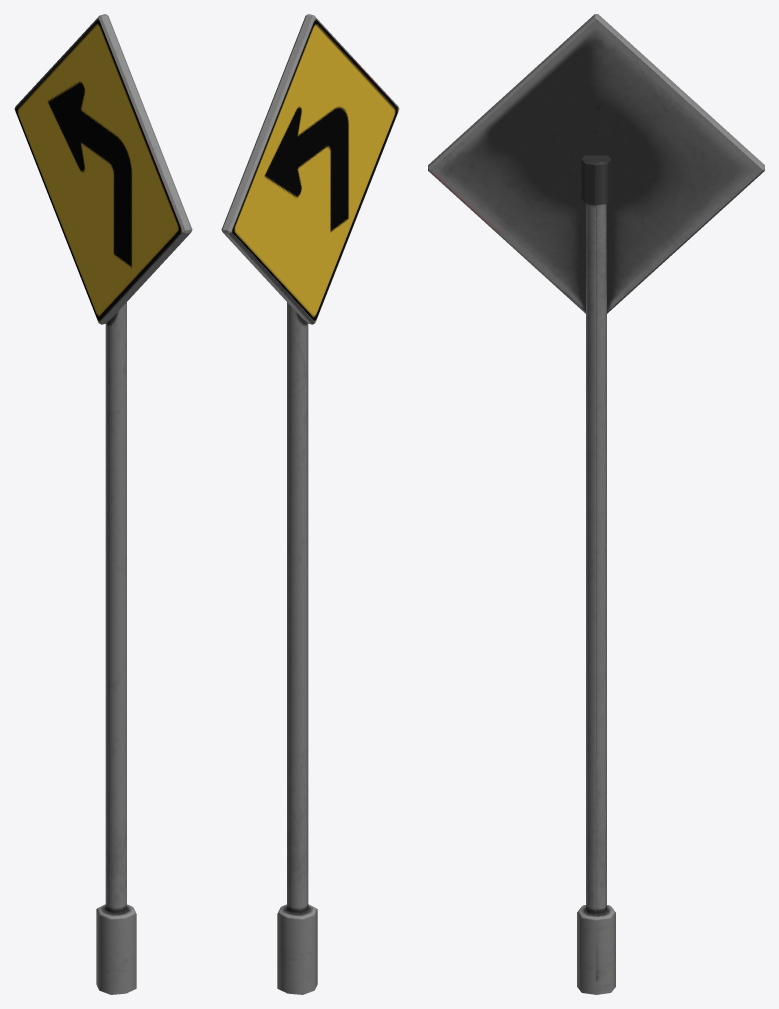
File: SM_Sign3.fbx
3 views of the same model, side by side, from view 1: azimuth 30°, elevation 25°; view 2: azimuth 150°, elevation 25°; view 3: azimuth 270°, elevation 25° (orthographic).
Visible parts, largest first — view 1: SM_Sign3_LOD0; view 2: SM_Sign3_LOD0; view 3: SM_Sign3_LOD0.
Boxes of the visible parts, x1,y1,x2,y2 form: SM_Sign3_LOD0: [14, 14, 192, 994]; SM_Sign3_LOD0: [221, 14, 399, 994]; SM_Sign3_LOD0: [428, 14, 764, 994].
Bounding box in the file's own units: 11.34 × 95.86 × 303.
1 material, 1 textured.
